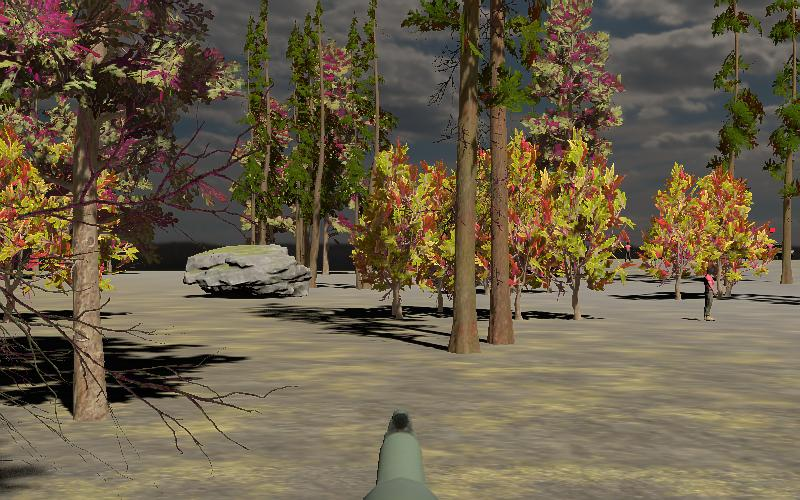Human: (702, 265, 717, 322), (703, 266, 717, 322)
